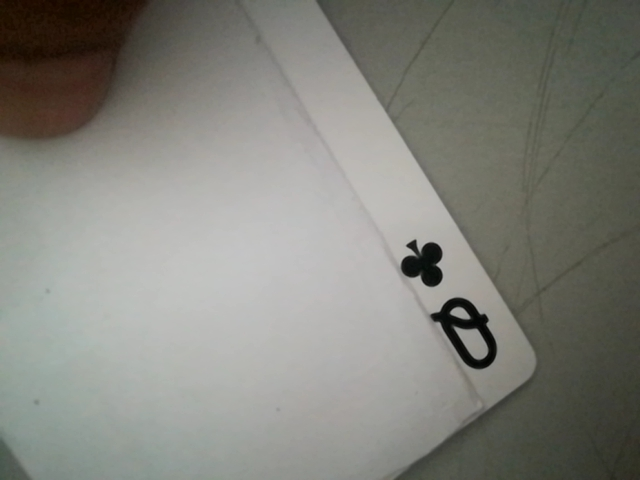mh q: (387, 229, 517, 383)
